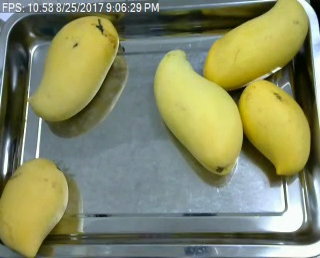Mango: (152, 49, 245, 176), (28, 13, 123, 125), (203, 0, 309, 91), (238, 80, 314, 178), (0, 156, 68, 257)
